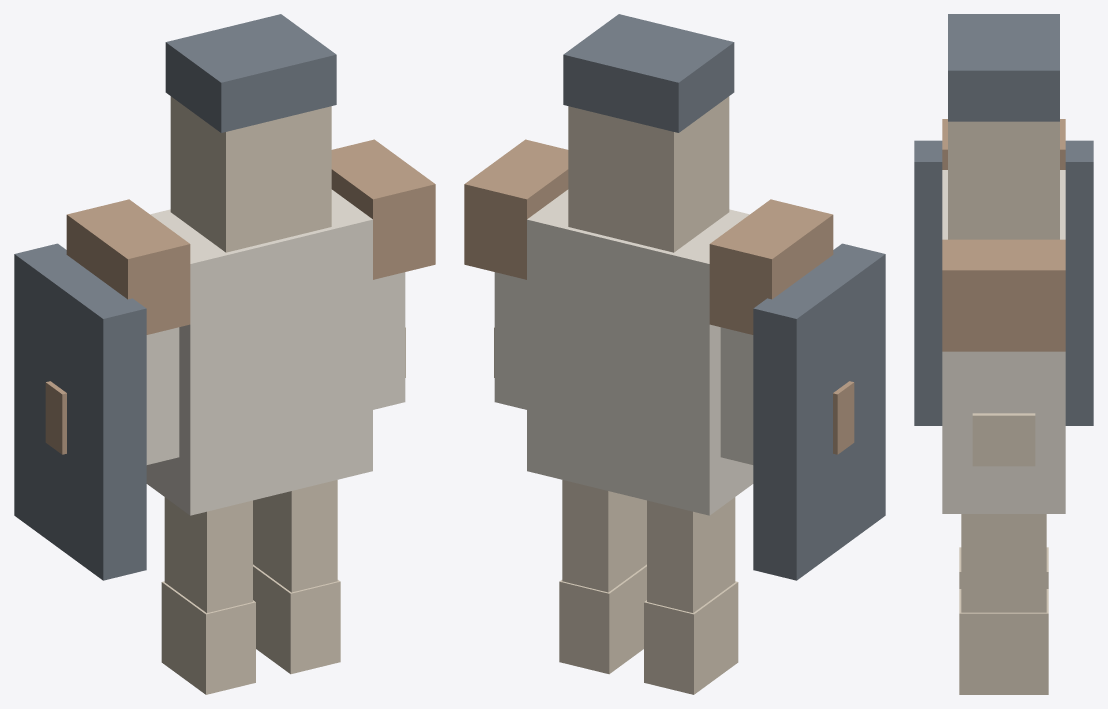
Rendered from unit-guardian.glb.
3 views of the same model, side by side, from view 1: azimuth 30°, elevation 25°; view 2: azimuth 150°, elevation 25°; view 3: azimuth 270°, elevation 25° (orthographic).
Parts seen in each view (by area): view 1: unit-guardian; view 2: unit-guardian; view 3: unit-guardian.
Boxes of the visible parts, <box> form: unit-guardian: <box>14,14,435,694</box>; unit-guardian: <box>464,14,885,694</box>; unit-guardian: <box>914,14,1093,694</box>.
Bounding box in the file's own units: 0.365 × 0.61 × 0.16.
